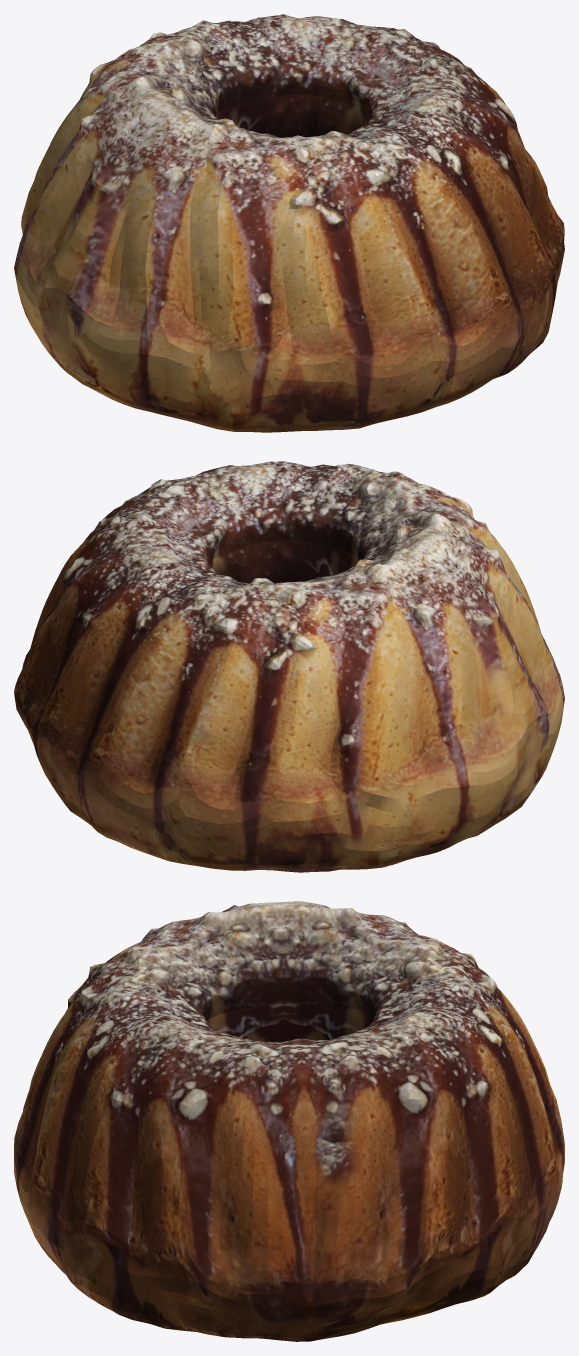
Rendered from cake.glb.
3 views of the same model, one above another, from view 1: azimuth 30°, elevation 25°; view 2: azimuth 150°, elevation 25°; view 3: azimuth 270°, elevation 25° (orthographic). The views are drawn at different scales.
Visible parts, largest first — view 1: CL_Skin_Buca1; view 2: CL_Skin_Buca1; view 3: CL_Skin_Buca1.
Part boxes in pixels (x1=…): CL_Skin_Buca1: x1=14, y1=14, x2=564, y2=432; CL_Skin_Buca1: x1=14, y1=461, x2=564, y2=872; CL_Skin_Buca1: x1=14, y1=901, x2=564, y2=1341.
Bounding box in the file's own units: 0.3008 × 0.1608 × 0.2886.
1 material, 1 textured.
